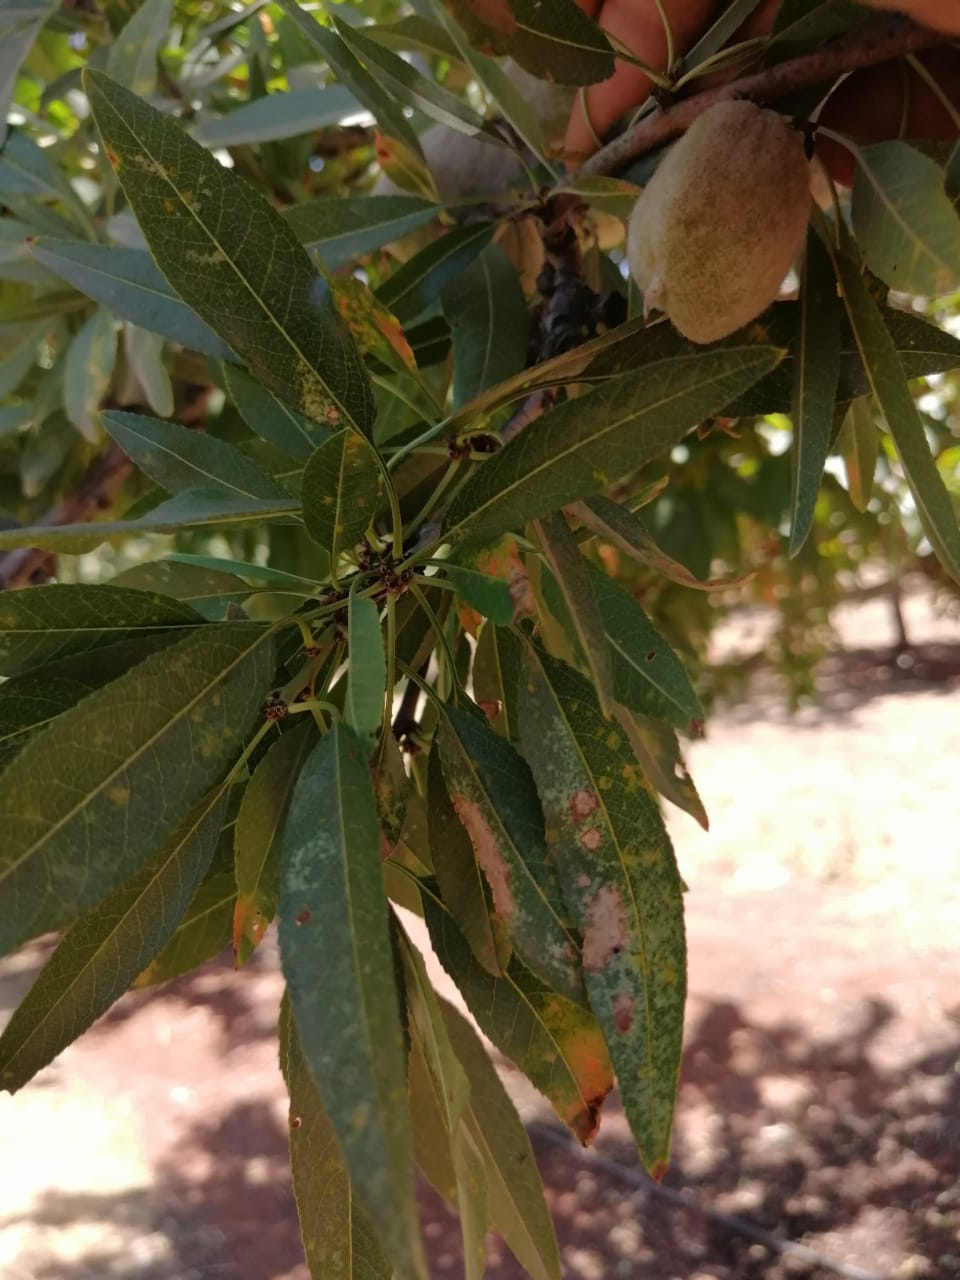faux tigre: (80, 61, 376, 442), (515, 644, 687, 1192), (280, 726, 433, 1280)
